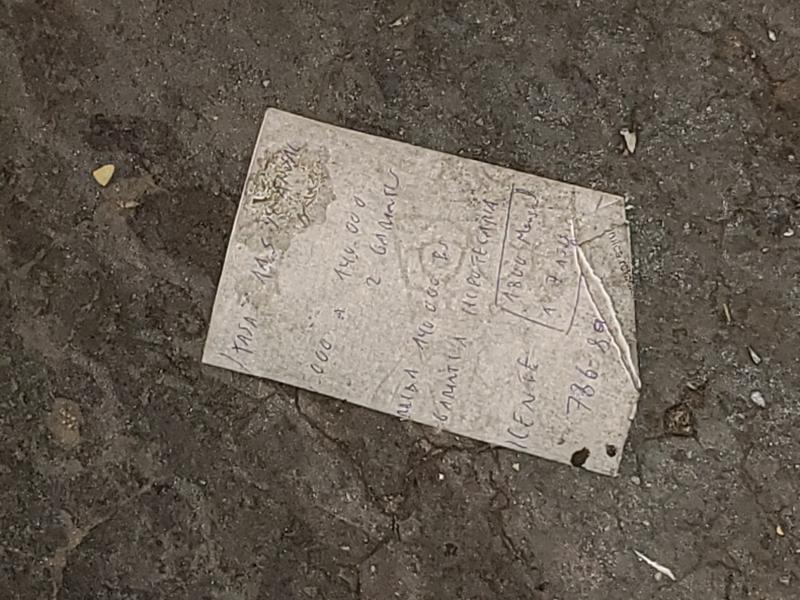papel: (200, 109, 642, 478)
